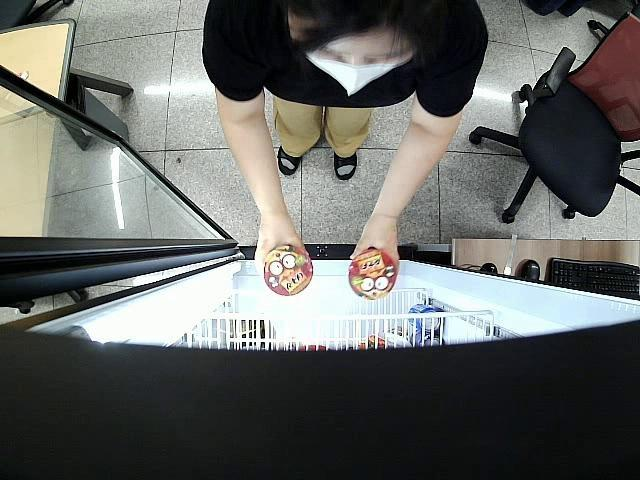06_nuguri_S: (260, 244, 314, 296), (346, 252, 396, 300)
